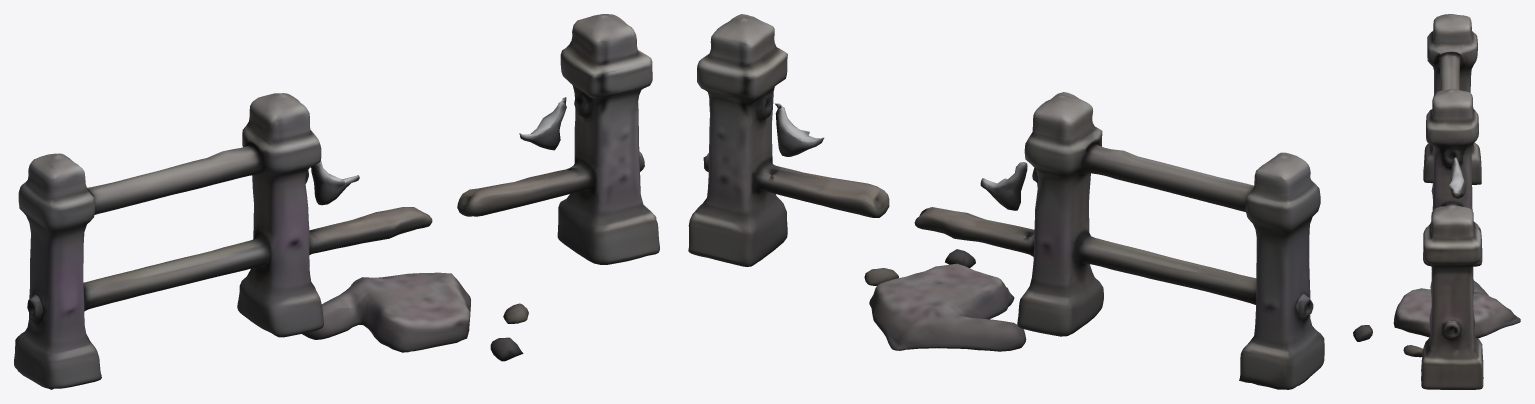
The model's file is SM_Entorno_VallaPiedra_01.fbx.
3 views of the same model, side by side, from view 1: azimuth 30°, elevation 25°; view 2: azimuth 150°, elevation 25°; view 3: azimuth 270°, elevation 25° (orthographic). The views are drawn at different scales.
Visible parts, largest first — view 1: SM_Entorno_VallaPiedra_01; view 2: SM_Entorno_VallaPiedra_01; view 3: SM_Entorno_VallaPiedra_01.
Part boxes in pixels (x1,y1,x2,y2): SM_Entorno_VallaPiedra_01: [14, 14, 659, 389]; SM_Entorno_VallaPiedra_01: [688, 14, 1324, 389]; SM_Entorno_VallaPiedra_01: [1353, 14, 1520, 389].
Size of the model in its own units: 0.9987 by 0.4015 by 0.3215.
1 material, 1 textured.
